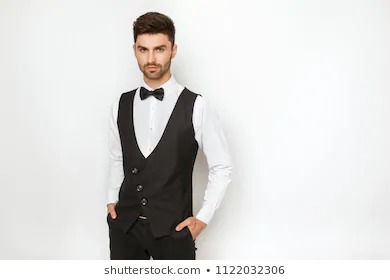F_shirt: (97, 74, 231, 227)
